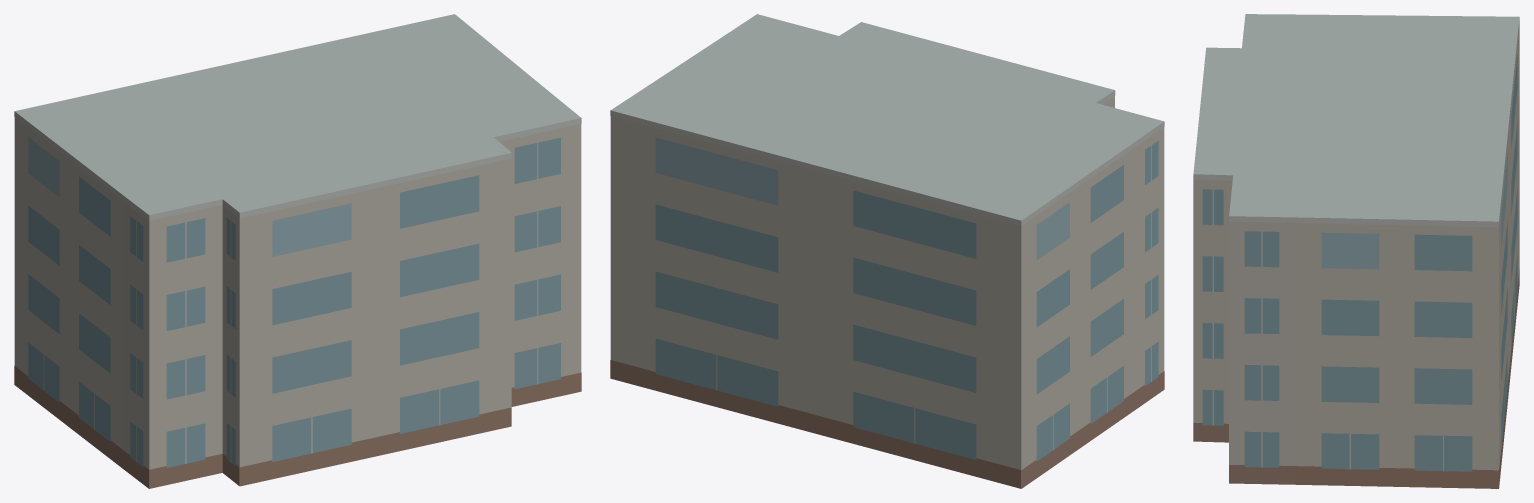
Rendered from survey-upis-32839706.glb.
3 views of the same model, side by side, from view 1: azimuth 30°, elevation 25°; view 2: azimuth 150°, elevation 25°; view 3: azimuth 270°, elevation 25° (orthographic). The views are drawn at different scales.
Visible parts, largest first — view 1: survey-upis-32839706.tmp; view 2: survey-upis-32839706.tmp; view 3: survey-upis-32839706.tmp.
Part boxes in pixels (<box>): survey-upis-32839706.tmp: <box>14,14,581,488</box>; survey-upis-32839706.tmp: <box>610,14,1164,488</box>; survey-upis-32839706.tmp: <box>1193,14,1519,488</box>.
Size of the model in its own units: 19.33 by 11.6 by 12.84.
